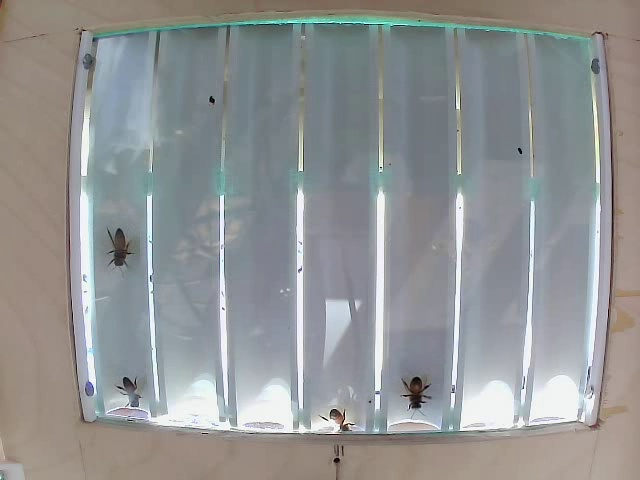bee: (97, 220, 137, 277), (397, 378, 432, 430)
